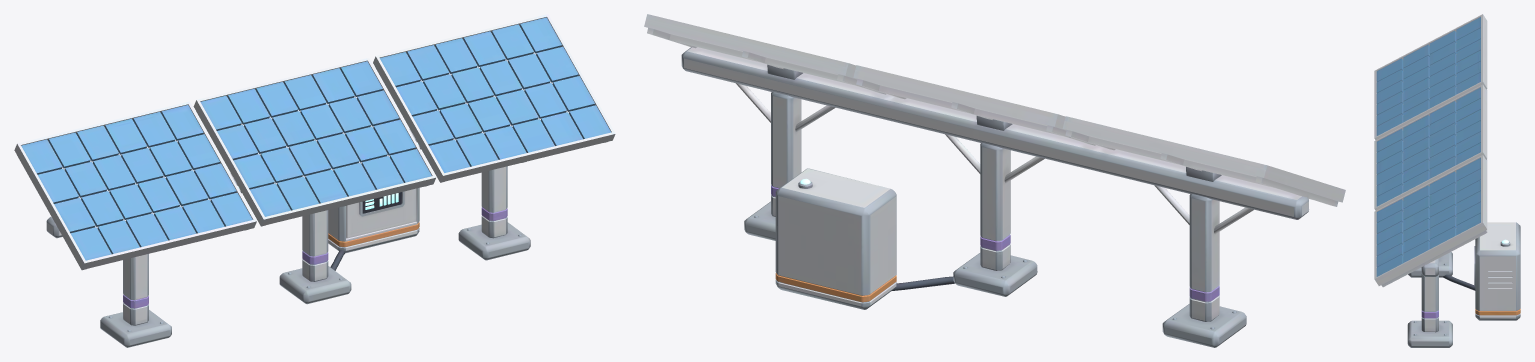
File: solar-panel-array.glb
3 renders of one model, left to right at view 1: azimuth 30°, elevation 25°; view 2: azimuth 150°, elevation 25°; view 3: azimuth 270°, elevation 25°, orthographic. The views are drawn at different scales.
Visible parts, largest first — view 1: solar-panel-array_body; view 2: solar-panel-array_body; view 3: solar-panel-array_body.
Part boxes in pixels (left/top/right/bottom): solar-panel-array_body: left=14, top=14, right=615, bottom=347; solar-panel-array_body: left=644, top=14, right=1345, bottom=347; solar-panel-array_body: left=1374, top=14, right=1520, bottom=347.
Bounding box in the file's own units: 3.94 × 1.33 × 1.17.
3 materials, 1 textured.
